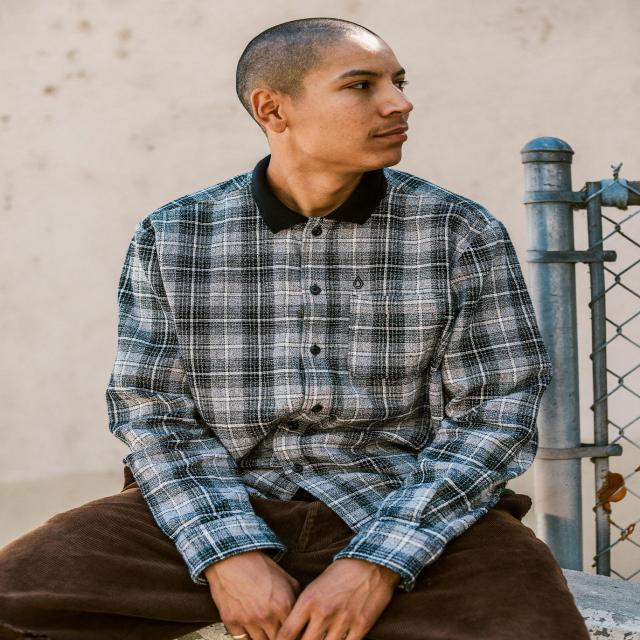plaid: (111, 160, 560, 576)
